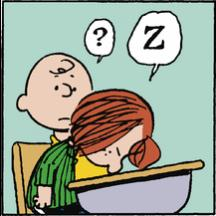charlie: (12, 51, 94, 149)
